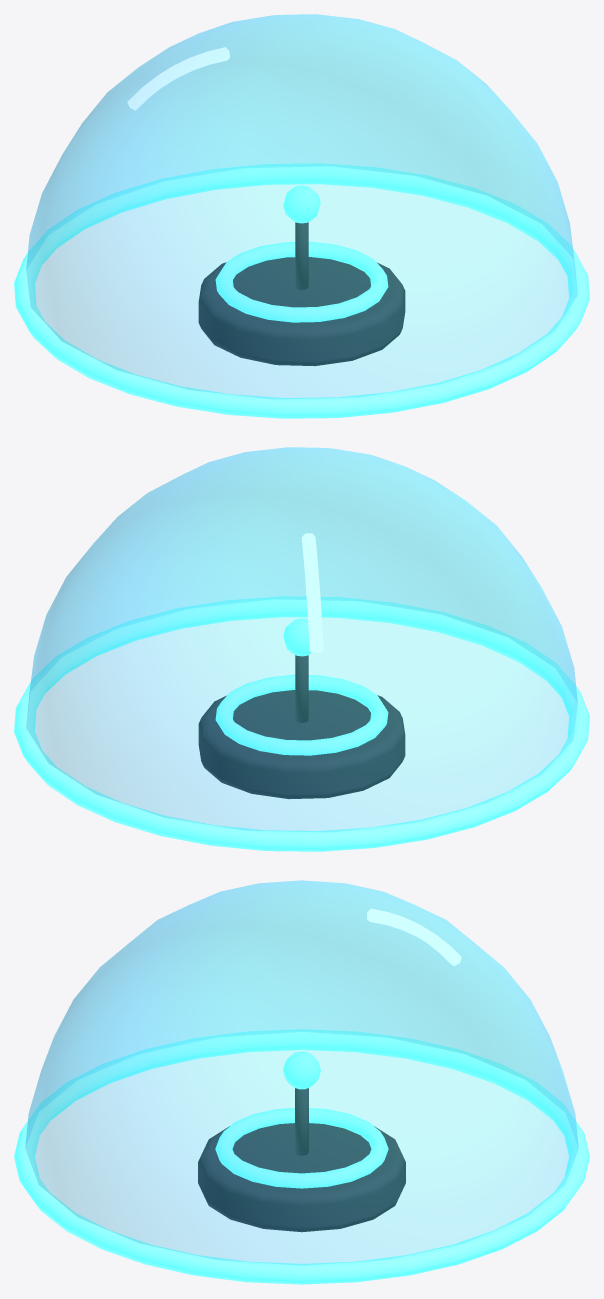
File: x_bubble.glb
3 renders of one model, top to bottom at view 1: azimuth 30°, elevation 25°; view 2: azimuth 150°, elevation 25°; view 3: azimuth 270°, elevation 25°, orthographic.
Visible parts, largest first — view 1: dome, emitter; view 2: dome, emitter; view 3: dome, emitter.
Boxes of the visible parts, <box> form: dome: <box>26,14,577,398</box>; emitter: <box>14,47,589,418</box>; dome: <box>26,447,577,831</box>; emitter: <box>14,533,589,851</box>; dome: <box>25,880,578,1265</box>; emitter: <box>14,908,589,1284</box>.
Bounding box in the file's own units: 0.664 × 0.365 × 0.664.
